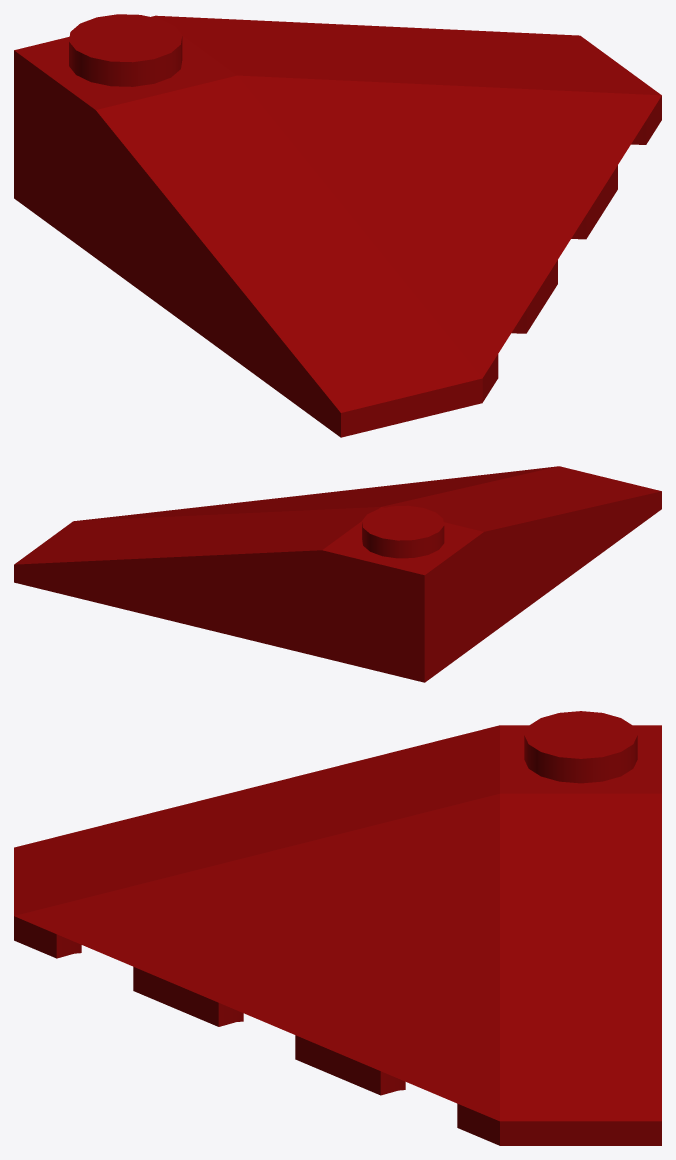
Rendered from SM_CornerRamp_4x4x1.gltf.
3 views of the same model, one above another, from view 1: azimuth 30°, elevation 25°; view 2: azimuth 150°, elevation 25°; view 3: azimuth 270°, elevation 25° (orthographic). The views are drawn at different scales.
Parts seen in each view (by area): view 1: SM_CornerRamp_4x4x1; view 2: SM_CornerRamp_4x4x1; view 3: SM_CornerRamp_4x4x1.
Part boxes in pixels (left/top/right/bottom): SM_CornerRamp_4x4x1: left=14, top=14, right=661, bottom=437; SM_CornerRamp_4x4x1: left=14, top=466, right=661, bottom=682; SM_CornerRamp_4x4x1: left=14, top=711, right=661, bottom=1145.
Bounding box in the file's own units: 1.2 × 0.35 × 1.2.
